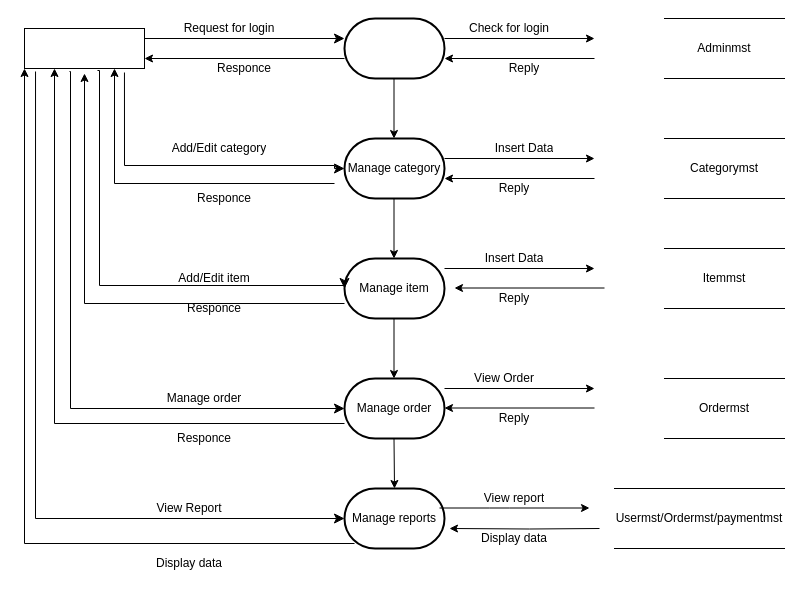
This 802x590 diagram has some shape labels left out. The box of each missing label's shape, as (x1, y1, x2, y2) in pixels:
Admin: (24, 28, 144, 68)
login: (343, 17, 445, 79)
